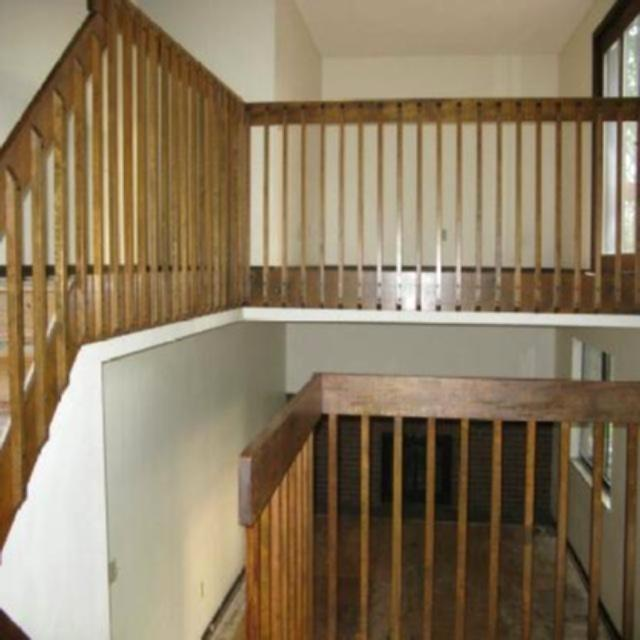stair: (0, 272, 74, 450)
